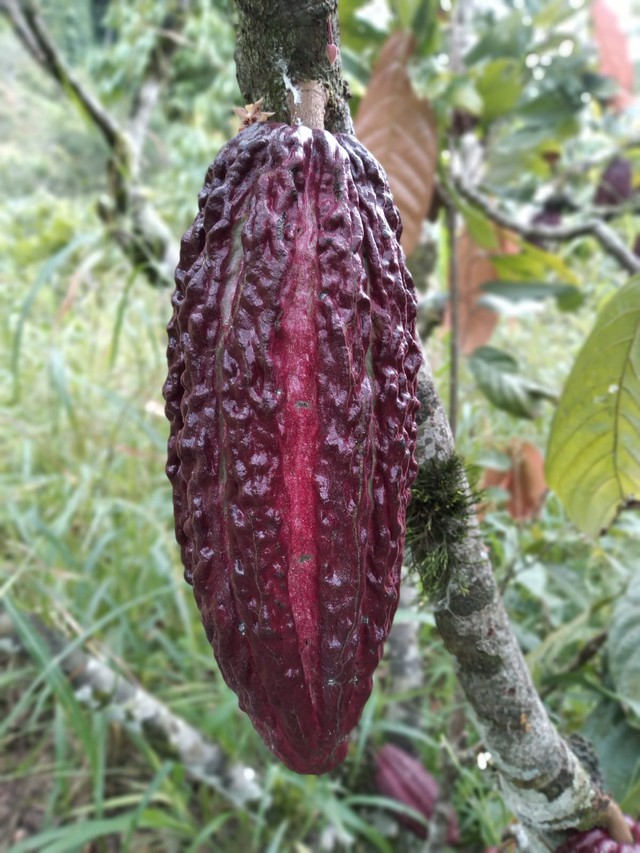Health: (131, 85, 463, 801)
